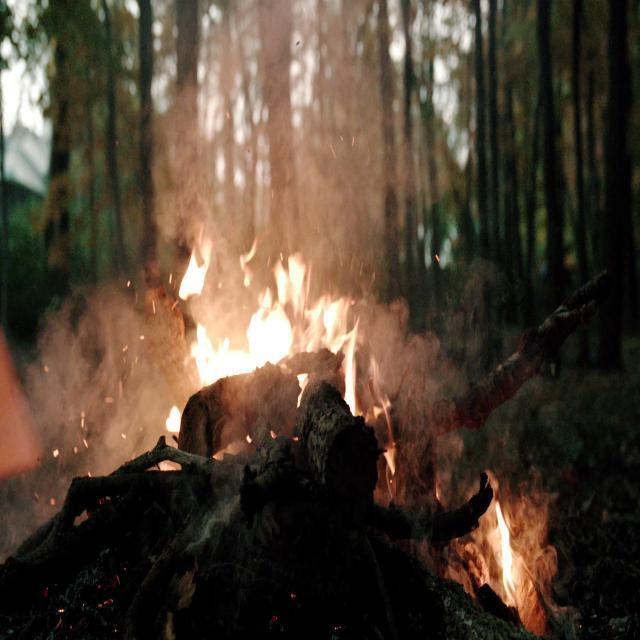Fire: (164, 240, 363, 419), (469, 482, 548, 626)
Smoke: (142, 0, 403, 264), (0, 237, 188, 480), (363, 288, 480, 464)
